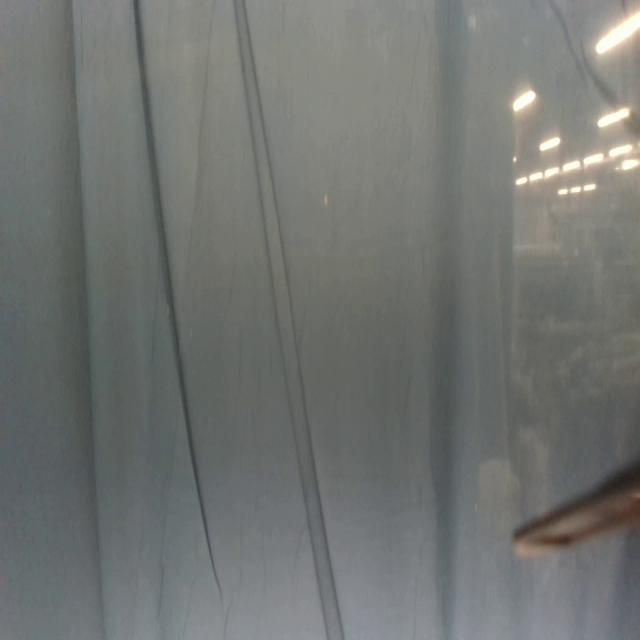crease: (233, 0, 344, 640), (132, 0, 224, 597), (69, 1, 105, 640)
hole: (323, 191, 329, 210)
